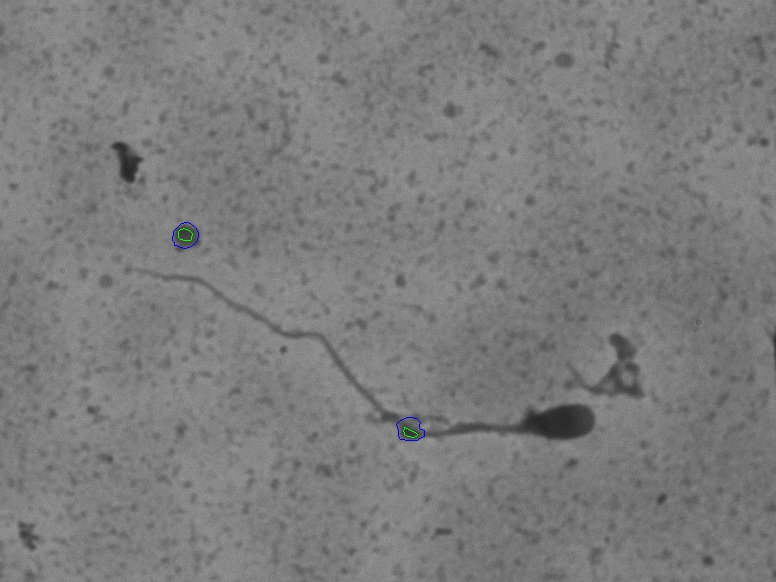Normal: (138, 255, 613, 477)
